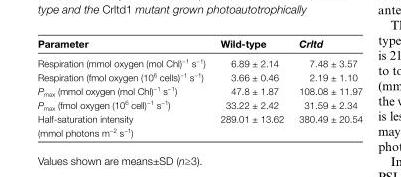table: (36, 36, 361, 137)
table column: (36, 36, 212, 137), (212, 36, 290, 137), (290, 36, 361, 137)
table column header: (36, 36, 361, 52)
table row: (36, 111, 361, 137), (36, 52, 361, 69), (36, 36, 361, 52), (36, 69, 361, 83), (36, 83, 361, 97), (36, 97, 361, 111)
